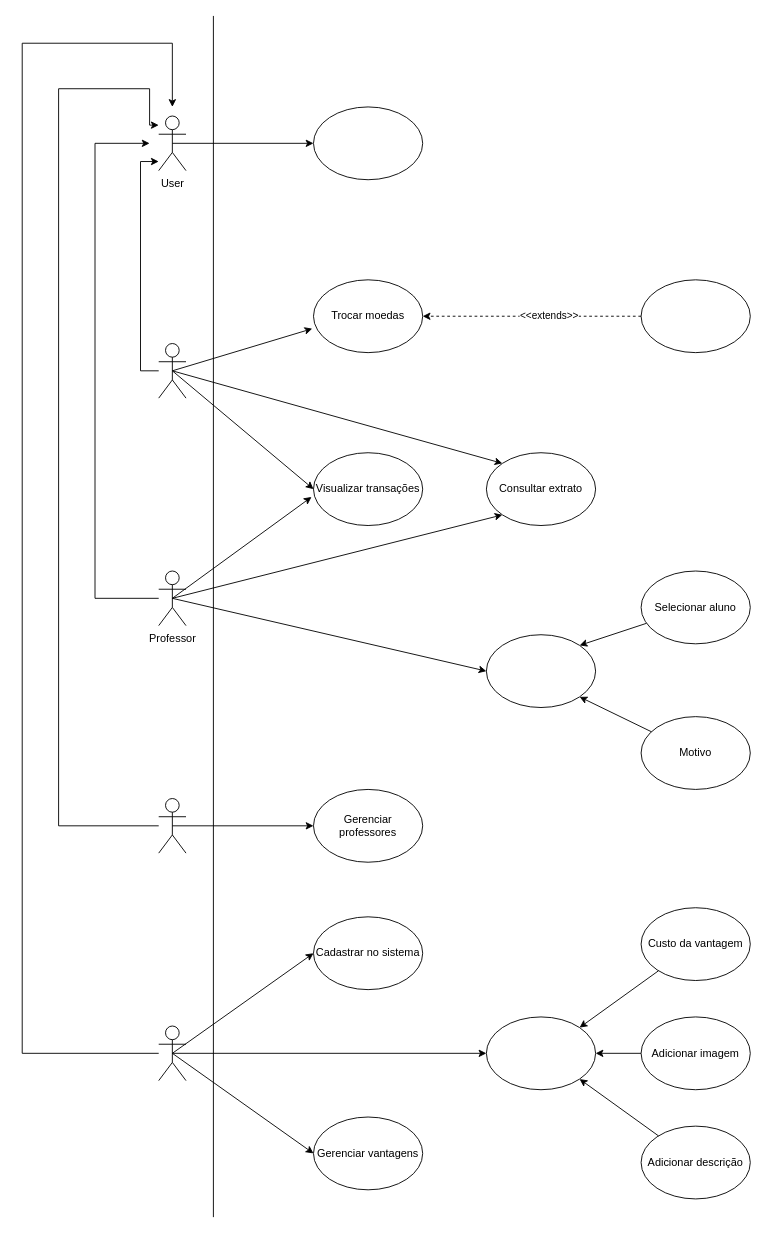
The diagram is 767 pixels wide and 1234 high, and some of its shapes have lost their labels. Here are the shapes that lost their labels. From the top down, the centre of each, then its label:
(368,143): Fazer login
(695,316): Selecionar vantagem
(172,370): Aluno
(540,671): Enviar moedas
(172,825): Admin
(172,1053): Empresa
(540,1053): Cadastrar vantagem
